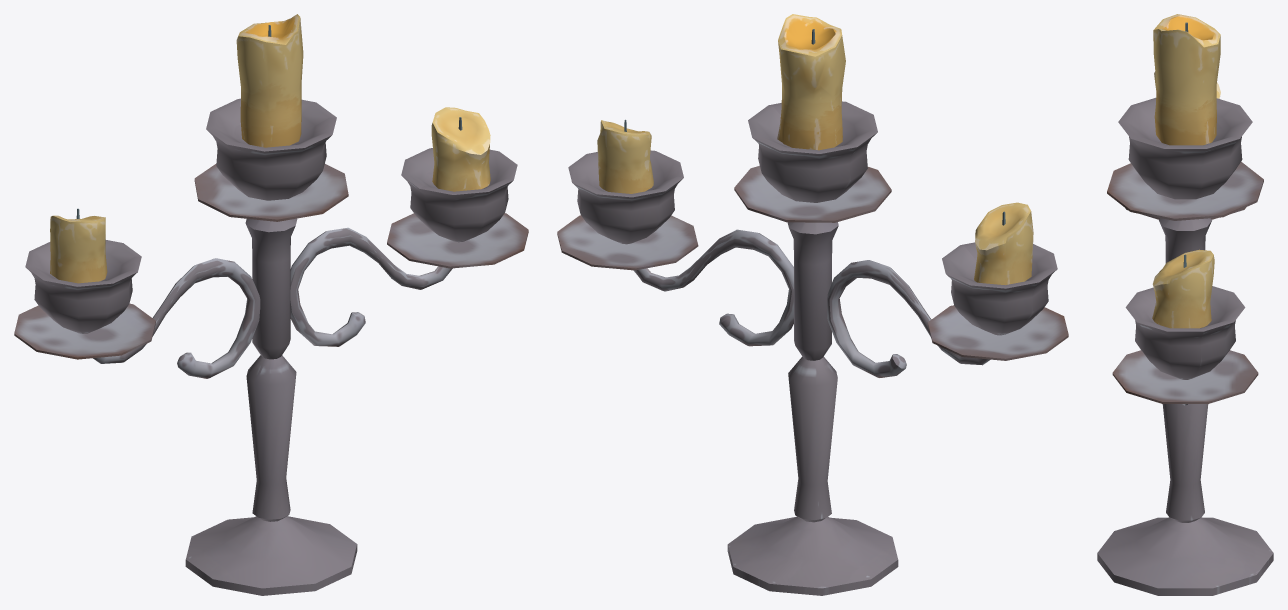
File: CandleStick_Triple.obj
The picture shows the model from 3 angles, left to right: view 1: azimuth 30°, elevation 25°; view 2: azimuth 150°, elevation 25°; view 3: azimuth 270°, elevation 25°; orthographic projection.
Parts seen in each view (by area): view 1: CandleStick_Triple_Cylinder.091; view 2: CandleStick_Triple_Cylinder.091; view 3: CandleStick_Triple_Cylinder.091.
Part boxes in pixels (box(x1,y1,x2,y2)): CandleStick_Triple_Cylinder.091: box(14, 14, 528, 595); CandleStick_Triple_Cylinder.091: box(557, 14, 1068, 595); CandleStick_Triple_Cylinder.091: box(1097, 14, 1273, 595).
Bounding box in the file's own units: 0.4423 × 0.4633 × 0.1364.
Materials: 2 (2 with a texture image).
